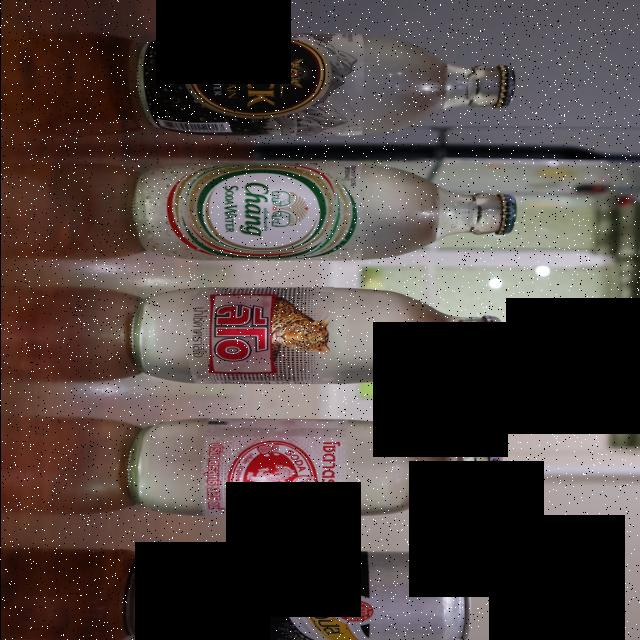glass-bottle: (126, 23, 534, 147), (119, 154, 529, 272), (112, 408, 512, 528), (113, 285, 514, 394)
